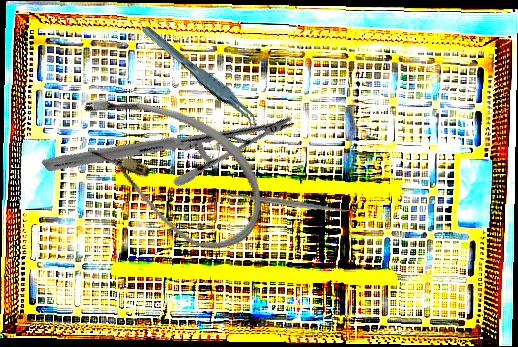Cannula: (50, 72, 286, 267)
Needle Holder: (40, 22, 297, 266)
Spatula Surgical: (218, 186, 360, 221)
Tissue Forceps: (141, 13, 262, 141)
